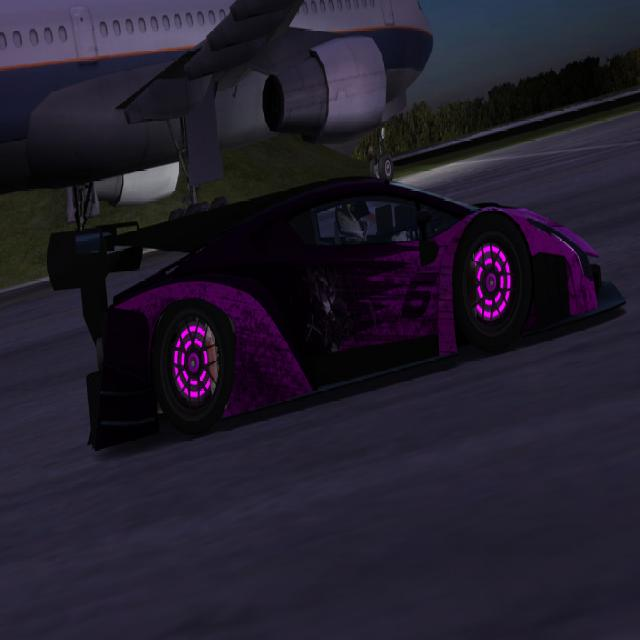other: (42, 90, 579, 412)
